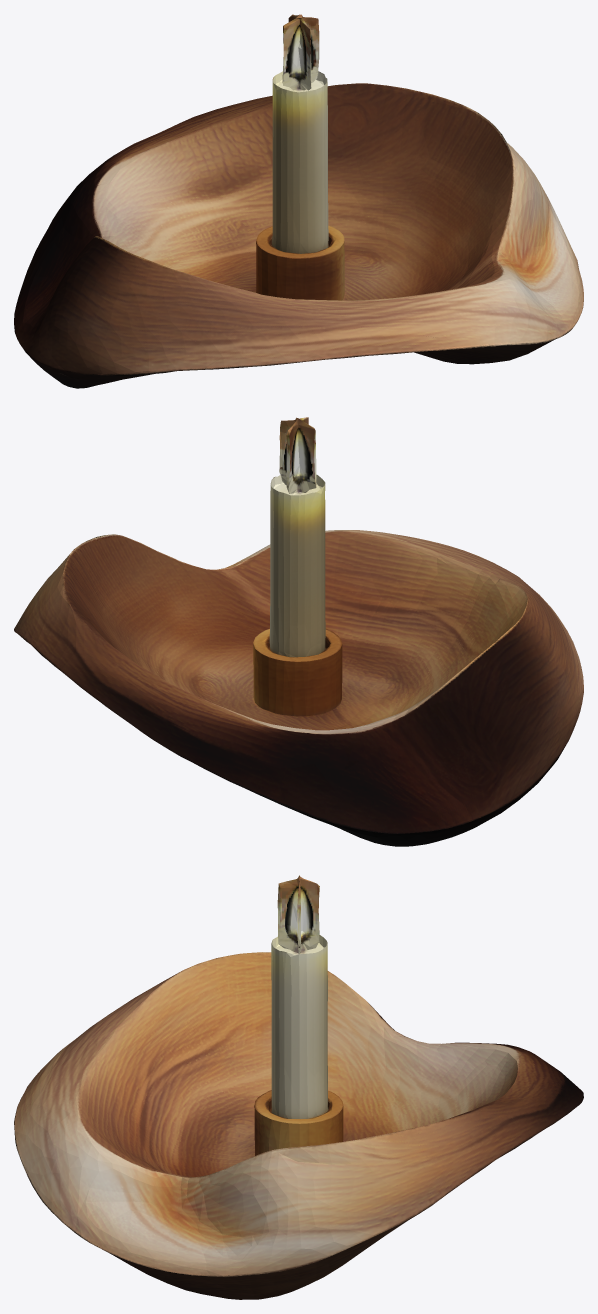
Rendered from wooden-candle-holder-futuristic.jpeg.glb.
3 renders of one model, top to bottom at view 1: azimuth 30°, elevation 25°; view 2: azimuth 150°, elevation 25°; view 3: azimuth 270°, elevation 25°, orthographic.
Visible parts, largest first — view 1: world; view 2: world; view 3: world.
Part boxes in pixels (x1,y1,x2,y2): world: (14,14,583,388); world: (14,417,583,846); world: (14,875,583,1299).
Size of the model in its own units: 1 by 0.6778 by 0.9796.
Materials: 1 (1 with a texture image).
